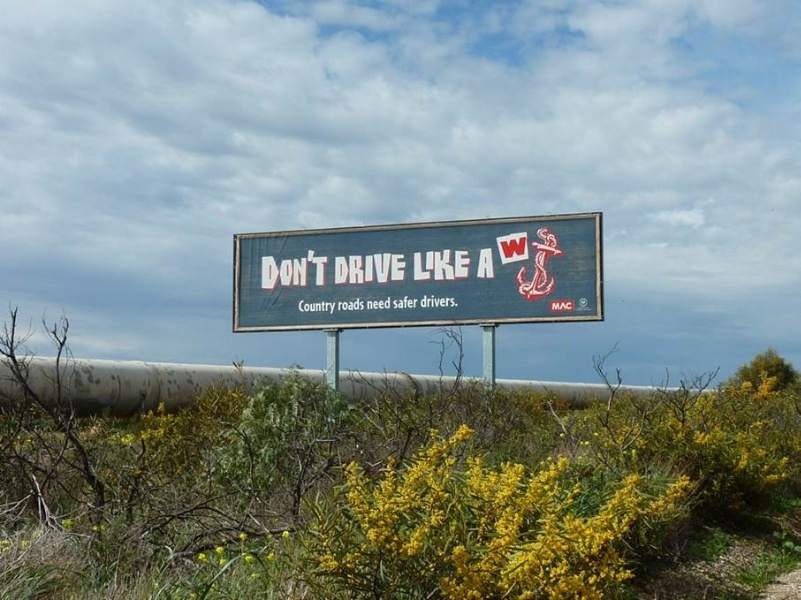text: (273, 249, 288, 289), (289, 249, 304, 289), (305, 249, 320, 289), (337, 251, 352, 285), (353, 251, 368, 285), (369, 251, 384, 285), (385, 251, 400, 285), (417, 249, 432, 282), (433, 249, 448, 282), (449, 249, 464, 282), (481, 248, 496, 279), (261, 249, 272, 289), (513, 236, 529, 259), (321, 249, 330, 289), (501, 236, 512, 259), (465, 249, 472, 282), (401, 296, 416, 311), (305, 300, 320, 314), (321, 300, 336, 314), (369, 297, 384, 311), (433, 295, 448, 309), (401, 251, 407, 285), (339, 298, 352, 312), (353, 298, 365, 312), (420, 295, 432, 309), (561, 300, 574, 312), (449, 295, 459, 309), (550, 300, 560, 312), (393, 296, 400, 311), (385, 297, 392, 311), (477, 248, 480, 279), (298, 300, 304, 314), (414, 249, 416, 282), (417, 296, 419, 311), (367, 297, 368, 311)
